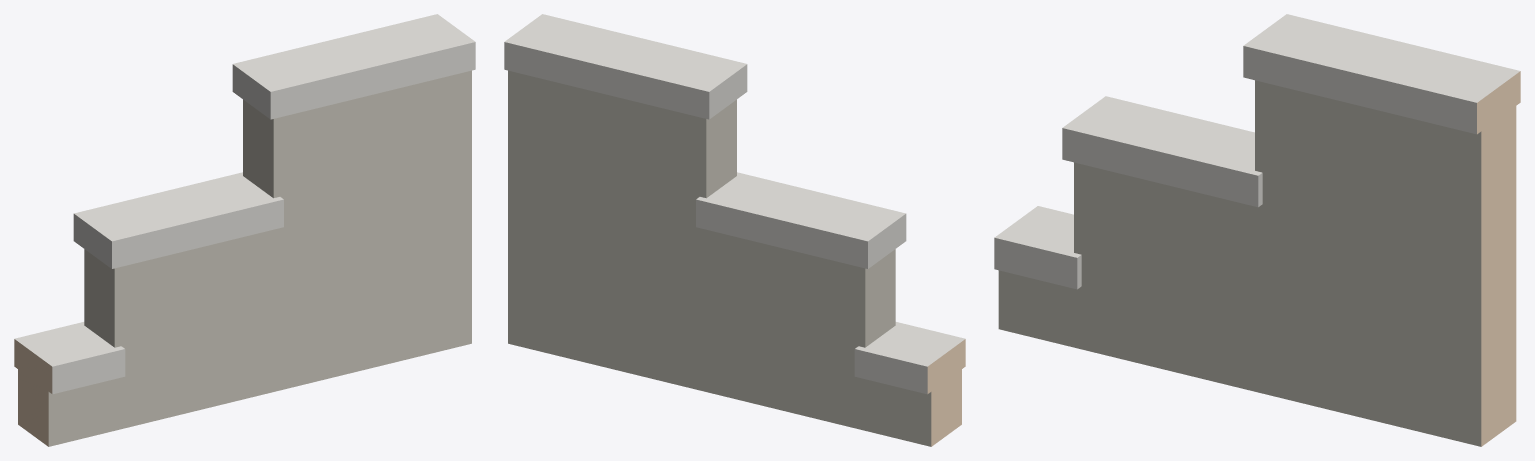
Rendered from Tiered_Retaining_Wall_Stepped_Straight_1x2.glb.
3 views of the same model, side by side, from view 1: azimuth 30°, elevation 25°; view 2: azimuth 150°, elevation 25°; view 3: azimuth 330°, elevation 25° (orthographic). The views are drawn at different scales.
Parts seen in each view (by area): view 1: Tiered_Retaining_Wall_Stepped_Straight_1x2; view 2: Tiered_Retaining_Wall_Stepped_Straight_1x2; view 3: Tiered_Retaining_Wall_Stepped_Straight_1x2.
Part boxes in pixels (<box>): Tiered_Retaining_Wall_Stepped_Straight_1x2: <box>14,14,475,446</box>; Tiered_Retaining_Wall_Stepped_Straight_1x2: <box>504,14,965,446</box>; Tiered_Retaining_Wall_Stepped_Straight_1x2: <box>994,14,1520,446</box>.
Size of the model in its own units: 200 by 138 by 31.25.
